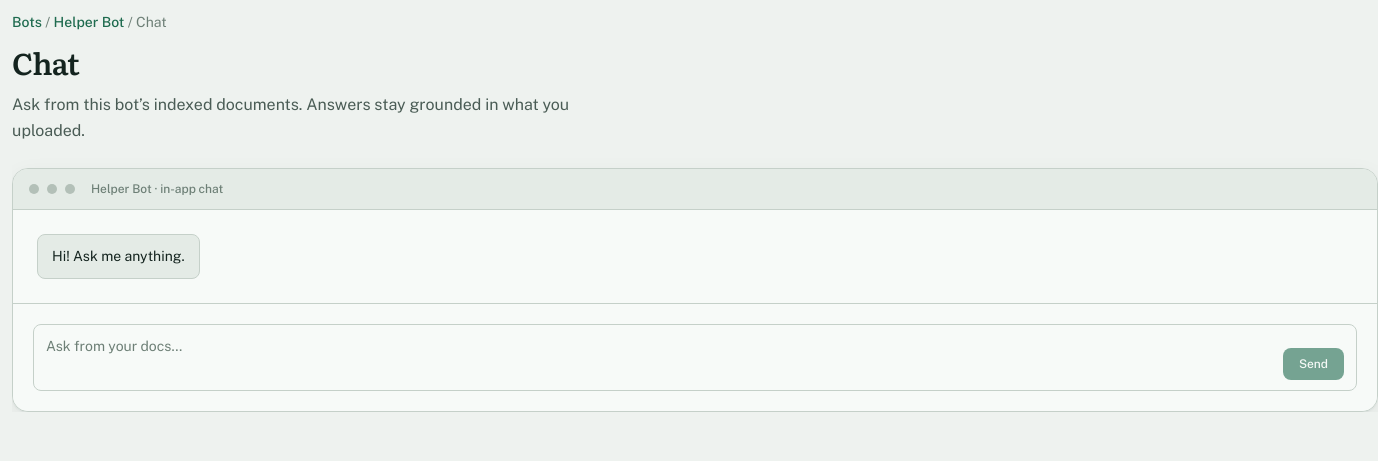
Test case: ChatThread send flow › rolls back the optimistic turns and shows an error on failure
Type "hello?" into the text box named "Message". click: {"x": 660, "y": 358}
box: [46,335,1275,380]
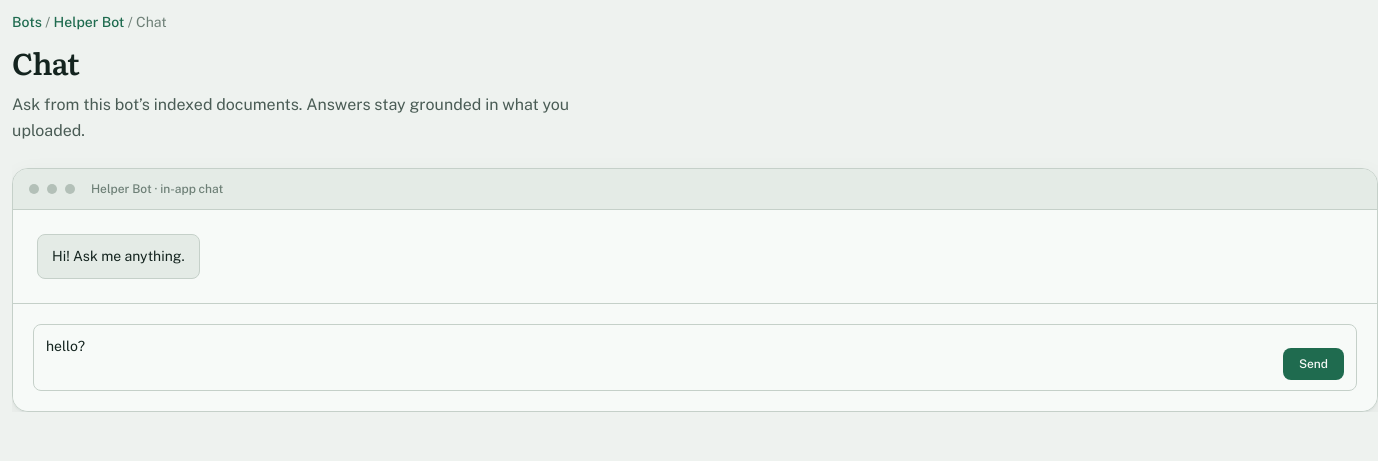
Click the button "Send". click: {"x": 1313, "y": 364}
box: [1283,348,1344,380]
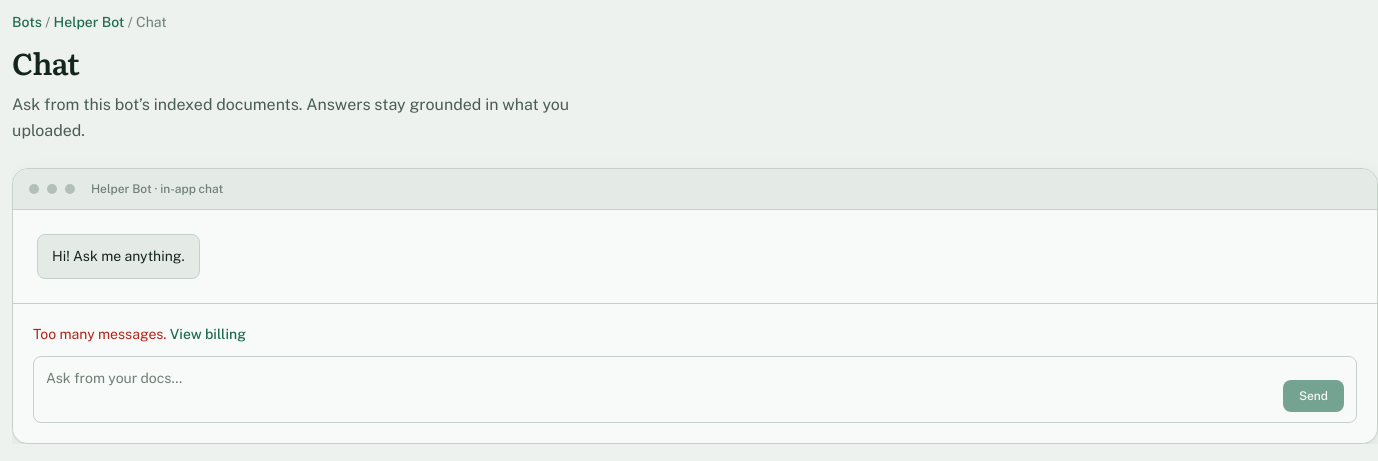
Expected: the message "Too many messages. View billing" is shown, [33,326,246,342]
Expected: the message shows "Too many messages", [33,326,166,342]
Expected: the message shows "View billing", [170,326,246,342]
